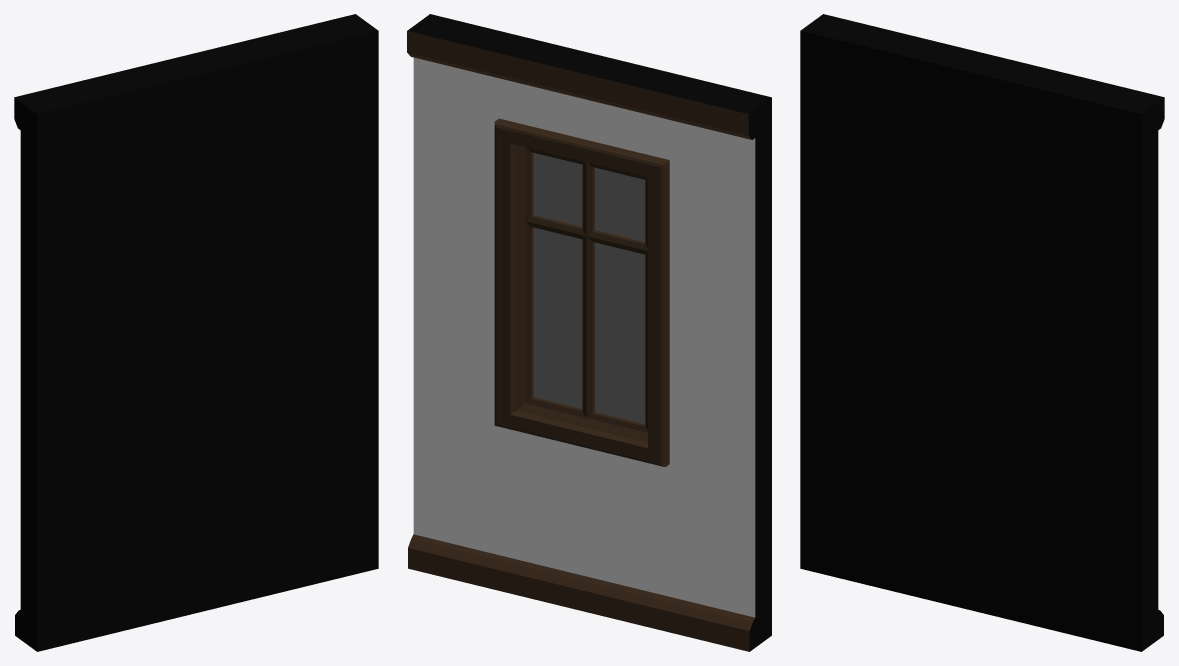
The model's file is Wall_02_Window.fbx.
The picture shows the model from 3 angles, left to right: view 1: azimuth 30°, elevation 25°; view 2: azimuth 150°, elevation 25°; view 3: azimuth 330°, elevation 25°; orthographic projection.
Visible parts, largest first — view 1: Cube.171; view 2: Cube.171, WindowGlass.009; view 3: Cube.171.
Part boxes in pixels (box(x1,y1,x2,y2)): Cube.171: box(14, 14, 378, 651); Cube.171: box(407, 14, 771, 651); WindowGlass.009: box(494, 118, 669, 466); Cube.171: box(800, 14, 1164, 651).
Size of the model in its own units: 0.2334 by 2 by 3.01.
